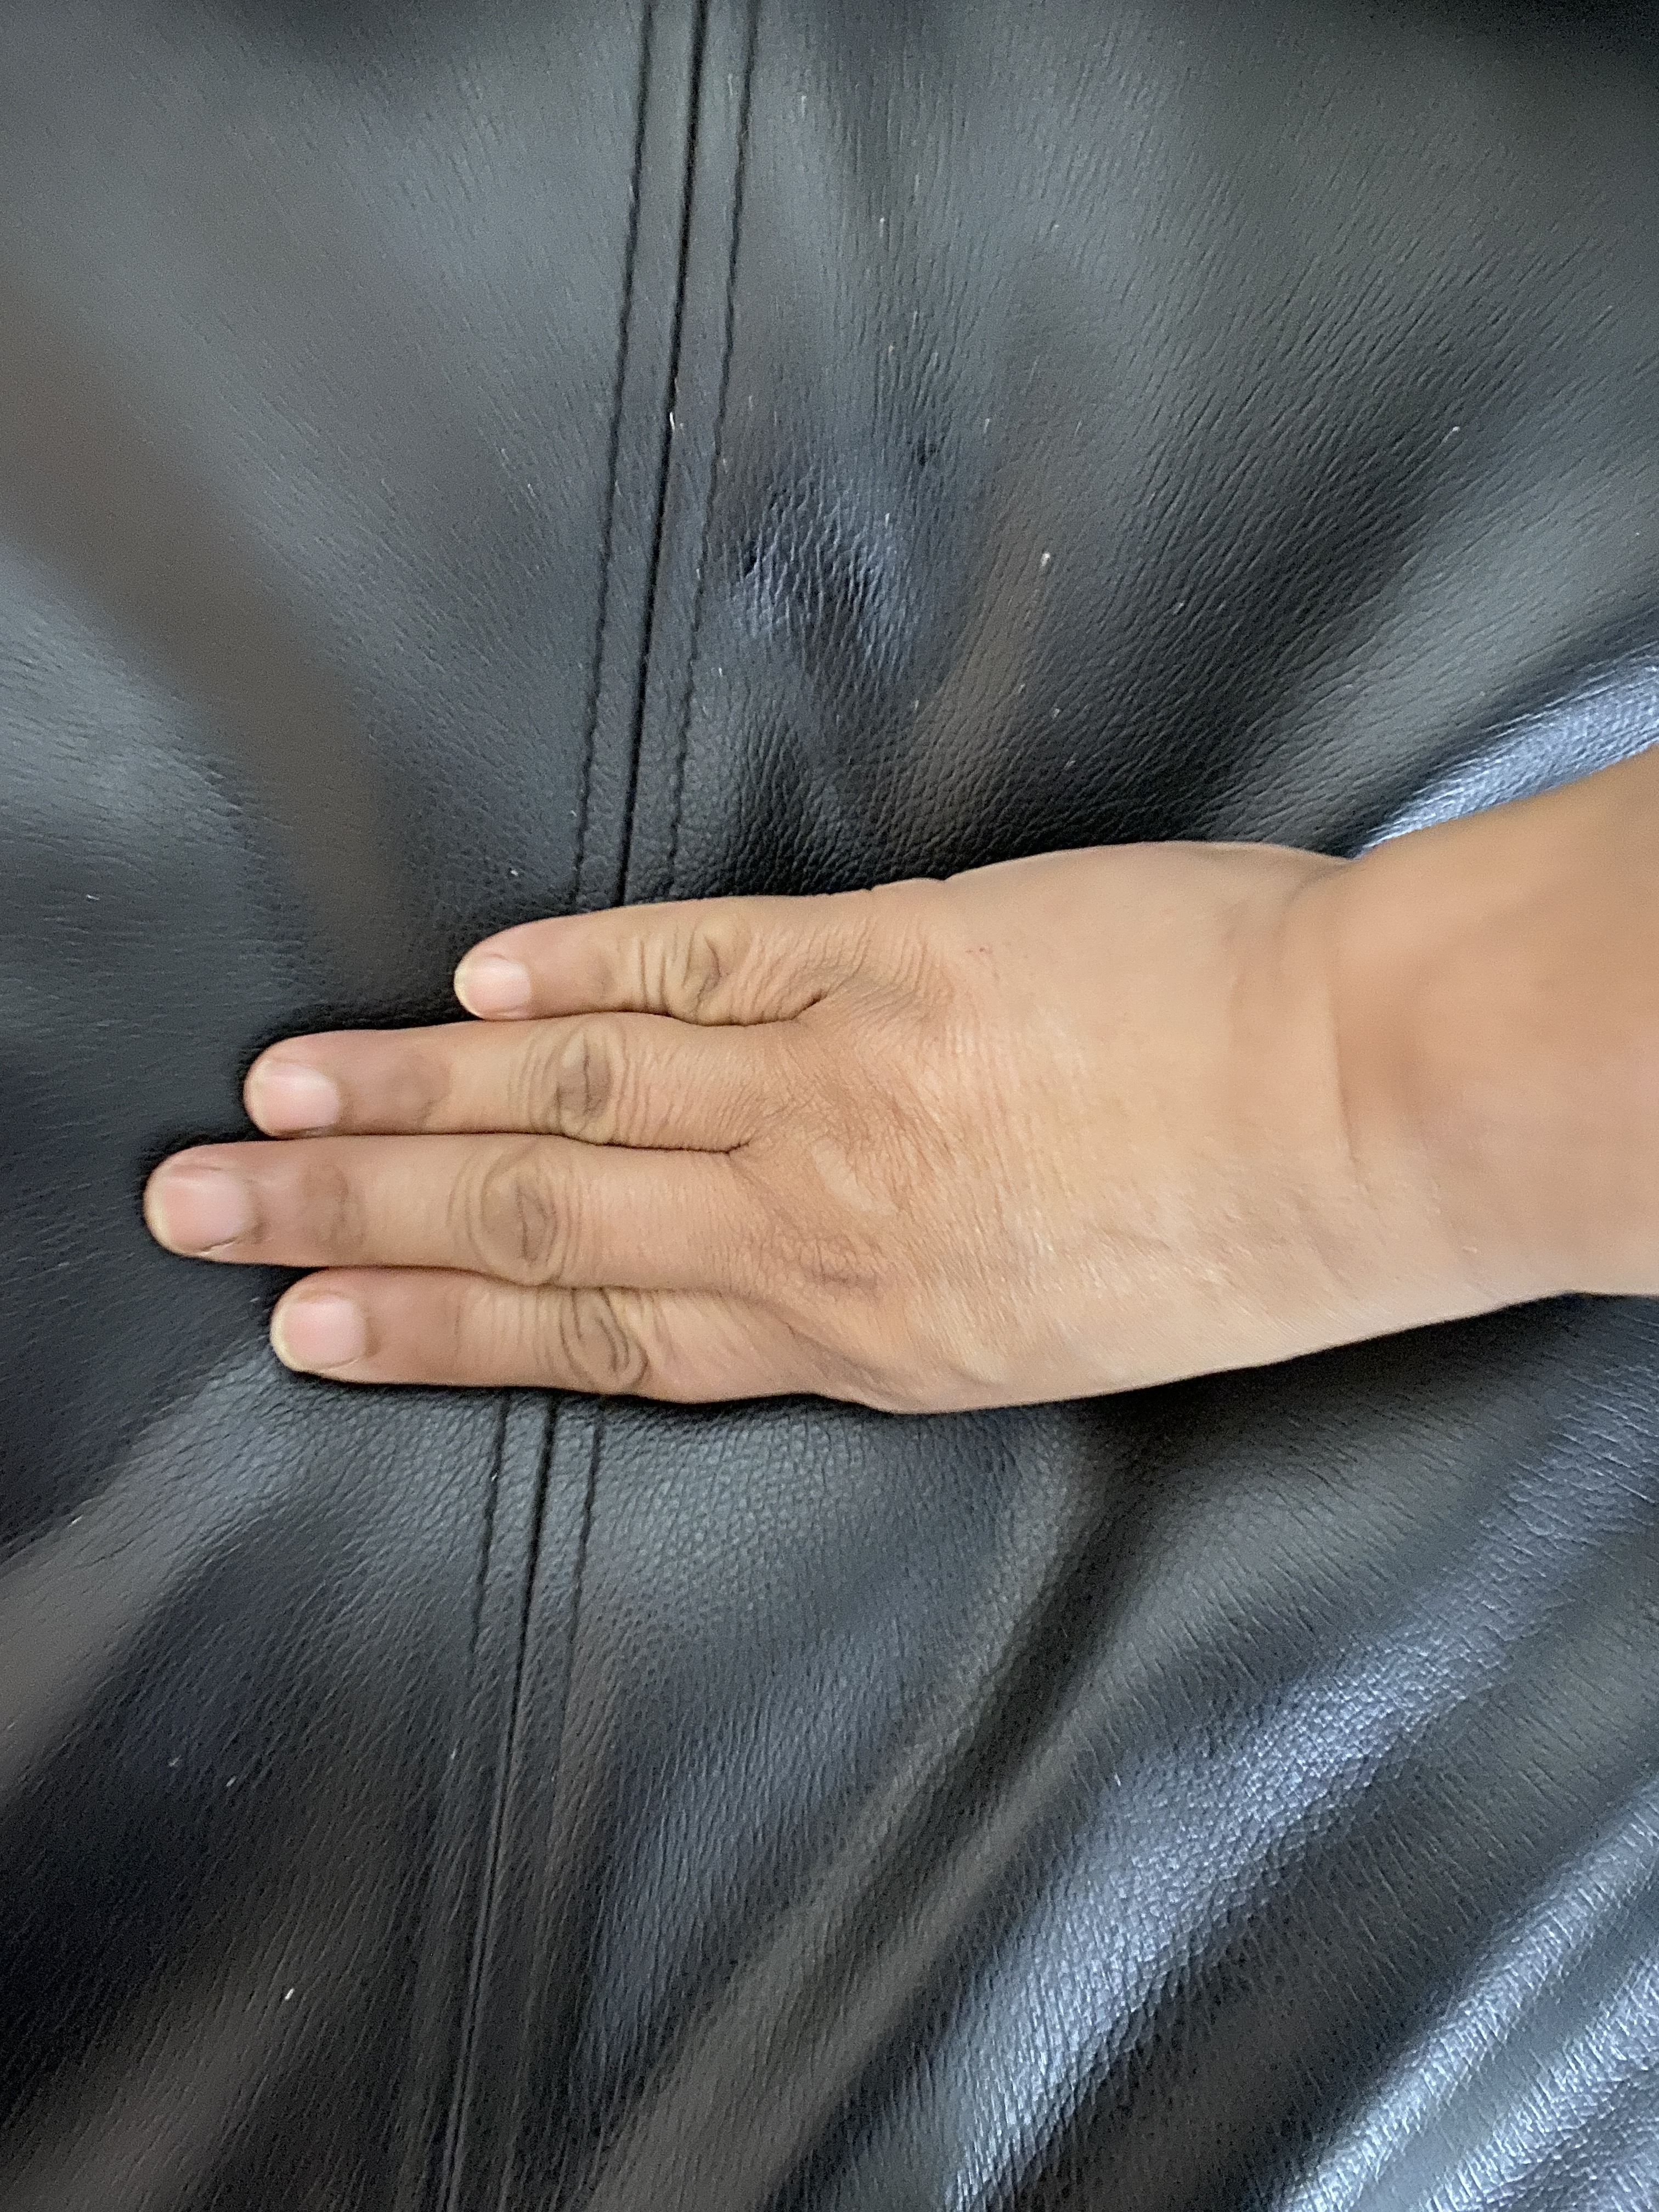right: (101, 524, 1659, 1752)
